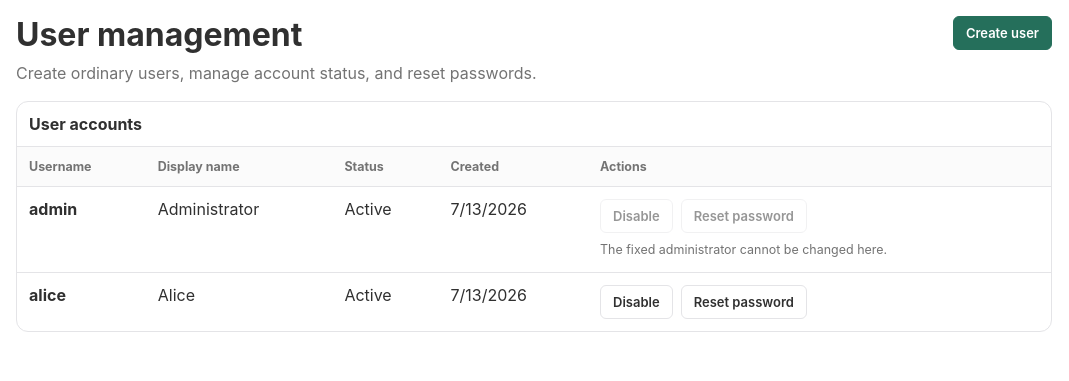
it: AdminUserManagementPage › keeps the list visible after status failure, unlocks, and retries once
Click the button with aria-label "Disable alice" at [636, 302], box [600,284,673,318]
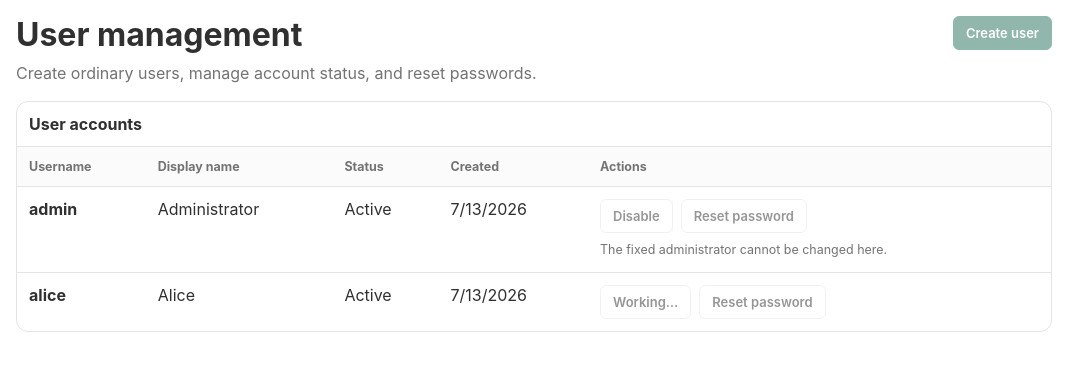
Click the button with aria-label "Disable alice" at [646, 302], box [600,284,691,318]
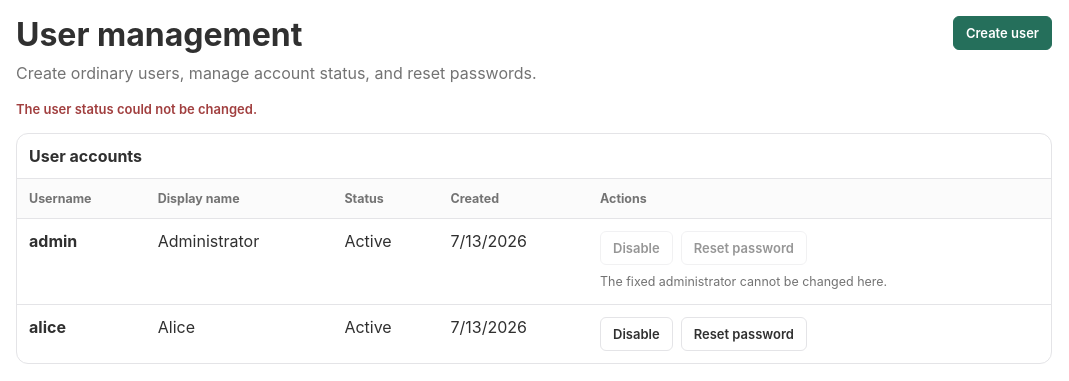
Expected: the column heading "alice" is shown, [17,304,146,362]
Expected: the message reads "The user status could not be changed.", [16,101,257,117]
Expected: the button with aria-label "Disable alice" is enabled
Click the button with aria-label "Disable alice" at [636, 334], box [600,316,673,350]
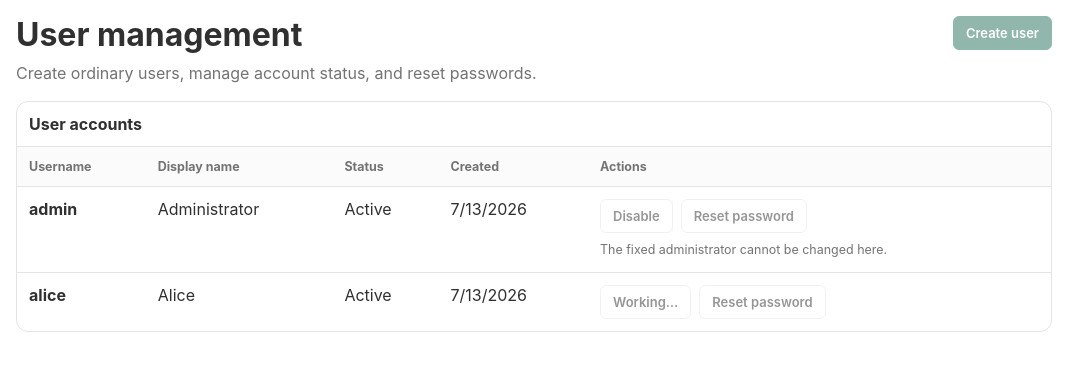
Click the button with aria-label "Disable alice" at [646, 302], box [600,284,691,318]
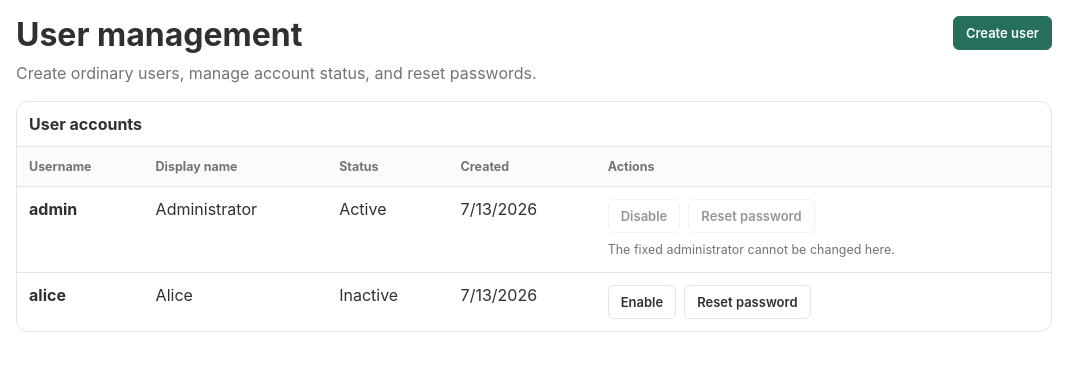
Expected: the text "The user status could not be changed." is not shown
Expected: the text "Inactive" is shown, [327,272,449,330]
